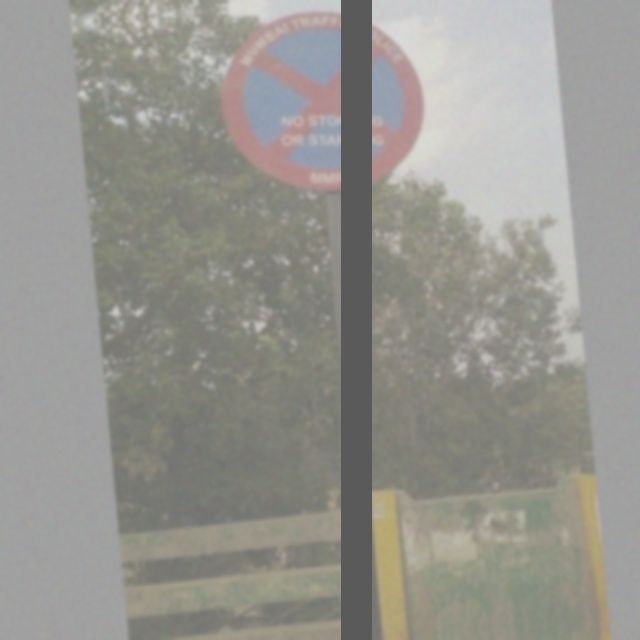No_Stopping_or_Standing: (215, 1, 440, 211)
